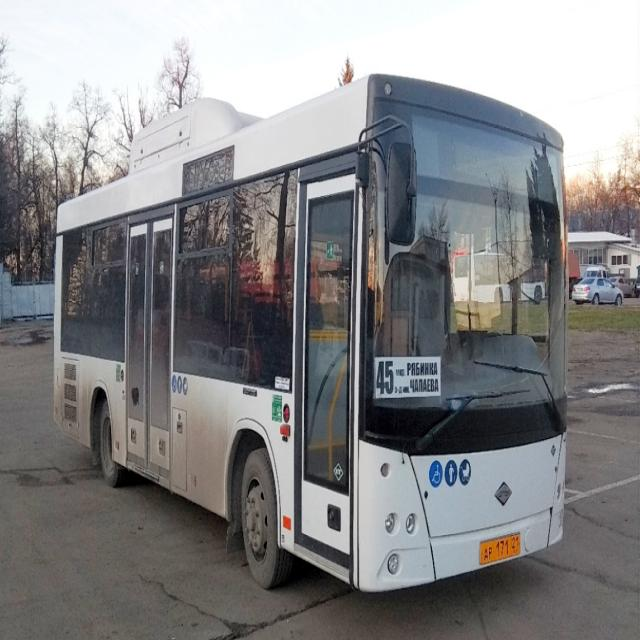number-of-bus: (378, 360, 397, 396)
